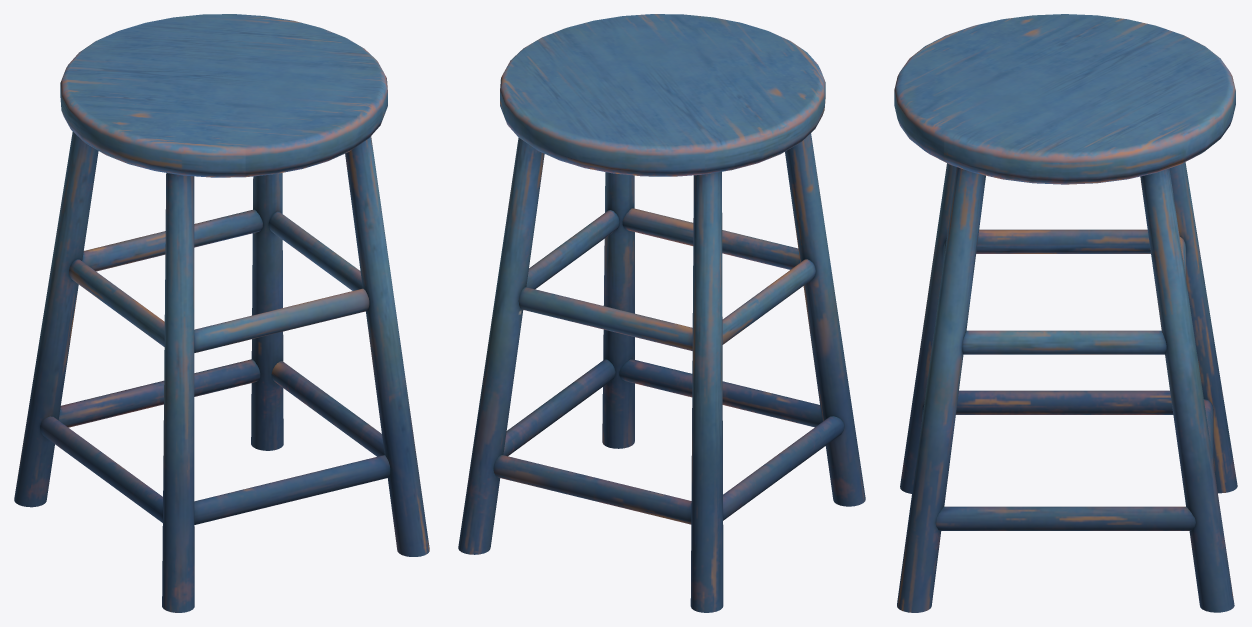
The model's file is SM_Stool01.fbx.
3 views of the same model, side by side, from view 1: azimuth 30°, elevation 25°; view 2: azimuth 150°, elevation 25°; view 3: azimuth 270°, elevation 25° (orthographic). The views are drawn at different scales.
Parts seen in each view (by area): view 1: SM_Stool01_LOD0; view 2: SM_Stool01_LOD0; view 3: SM_Stool01_LOD0.
Boxes of the visible parts, x1,y1,x2,y2 form: SM_Stool01_LOD0: (14,14,429,612); SM_Stool01_LOD0: (458,14,865,612); SM_Stool01_LOD0: (894,14,1237,612).
Bounding box in the file's own units: 41.02 × 41.25 × 61.52.
1 material, 1 textured.
